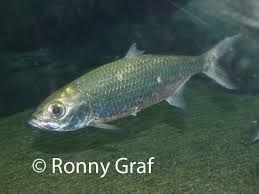Indo-Pacific Tarpon: (27, 34, 243, 136)
